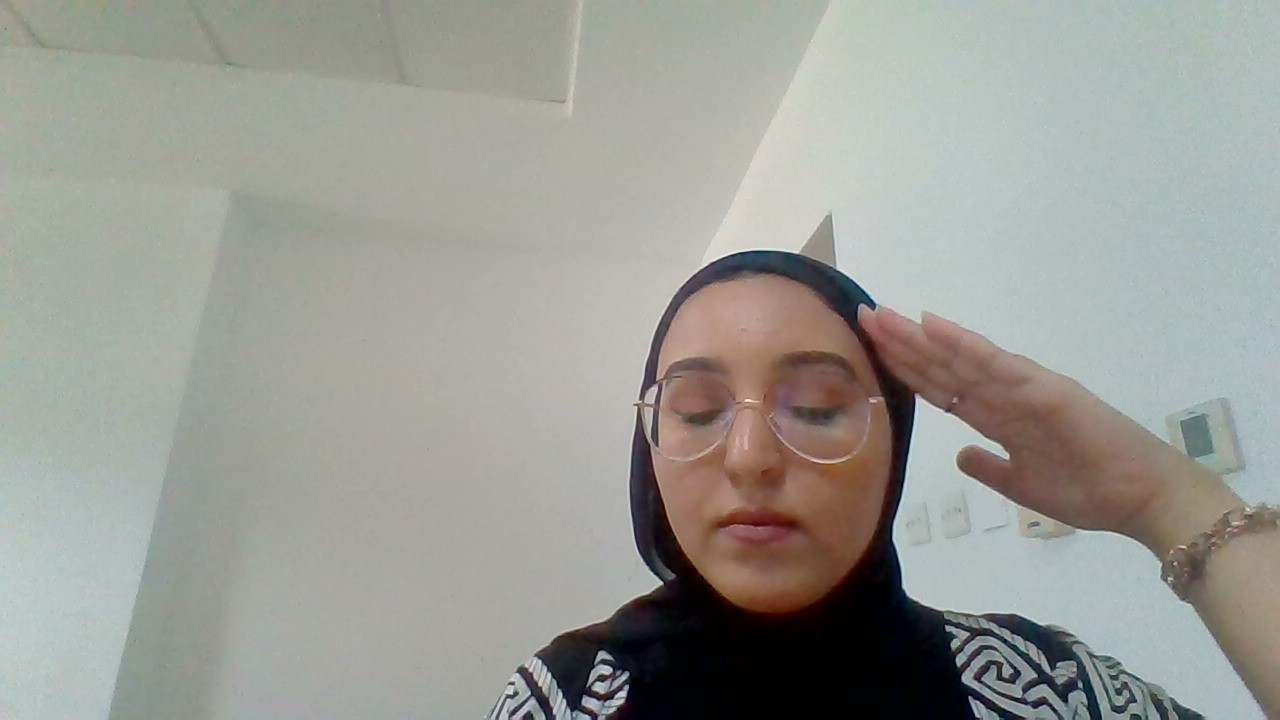hello: (853, 291, 1249, 601)
